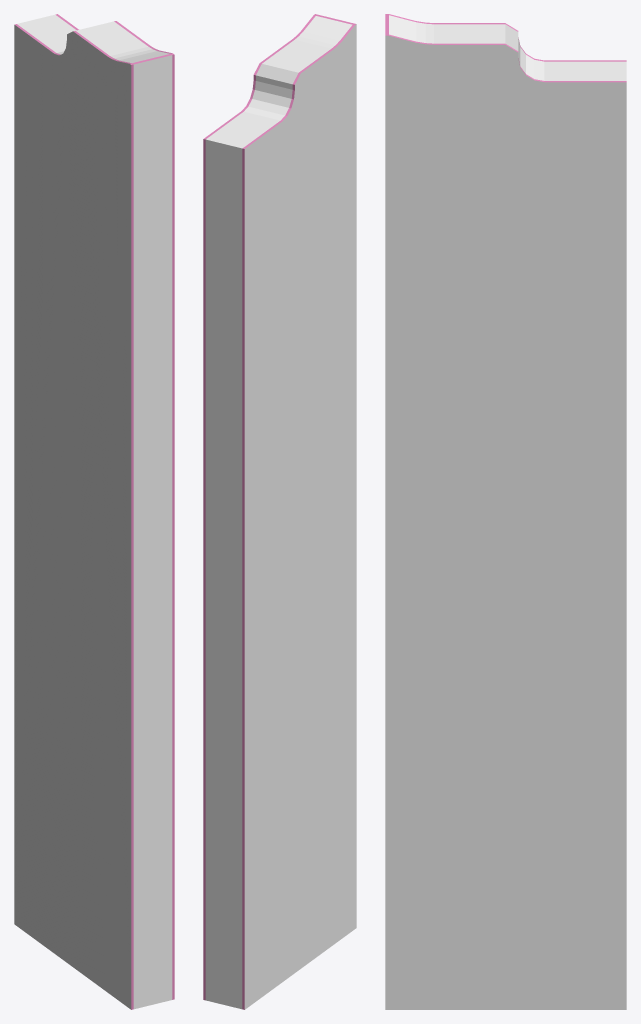
The model's file is cliffjumpchunk.fbx.
The picture shows the model from 3 angles, left to right: view 1: azimuth 30°, elevation 25°; view 2: azimuth 150°, elevation 25°; view 3: azimuth 270°, elevation 25°; orthographic projection. The views are drawn at different scales.
Visible parts, largest first — view 1: cliffjumpchunk, cliffjumpchunk.001, cliffjumpchunk.006, cliffjumpchunk.010; view 2: cliffjumpchunk.001, cliffjumpchunk, cliffjumpchunk.006, cliffjumpchunk.010, cliffjumpchunk.004, cliffjumpchunk.005, cliffjumpchunk.003, cliffjumpchunk.002; view 3: cliffjumpchunk.001, cliffjumpchunk, cliffjumpchunk.006, cliffjumpchunk.010.
Part boxes in pixels (left/top/right/bottom): cliffjumpchunk: left=67, top=72, right=174, bottom=1009; cliffjumpchunk.001: left=14, top=14, right=81, bottom=972; cliffjumpchunk.006: left=67, top=21, right=150, bottom=96; cliffjumpchunk.010: left=114, top=51, right=174, bottom=109; cliffjumpchunk.001: left=203, top=111, right=308, bottom=1009; cliffjumpchunk: left=295, top=67, right=356, bottom=962; cliffjumpchunk.006: left=253, top=39, right=339, bottom=102; cliffjumpchunk.010: left=305, top=14, right=356, bottom=78; cliffjumpchunk.004: left=250, top=89, right=303, bottom=118; cliffjumpchunk.005: left=252, top=80, right=306, bottom=110; cliffjumpchunk.003: left=246, top=98, right=300, bottom=125; cliffjumpchunk.002: left=242, top=106, right=297, bottom=133; cliffjumpchunk.001: left=488, top=60, right=626, bottom=1009; cliffjumpchunk: left=385, top=82, right=517, bottom=1009; cliffjumpchunk.006: left=421, top=23, right=518, bottom=82; cliffjumpchunk.010: left=385, top=14, right=420, bottom=82.
Size of the model in its own units: 25 by 117 by 523.
